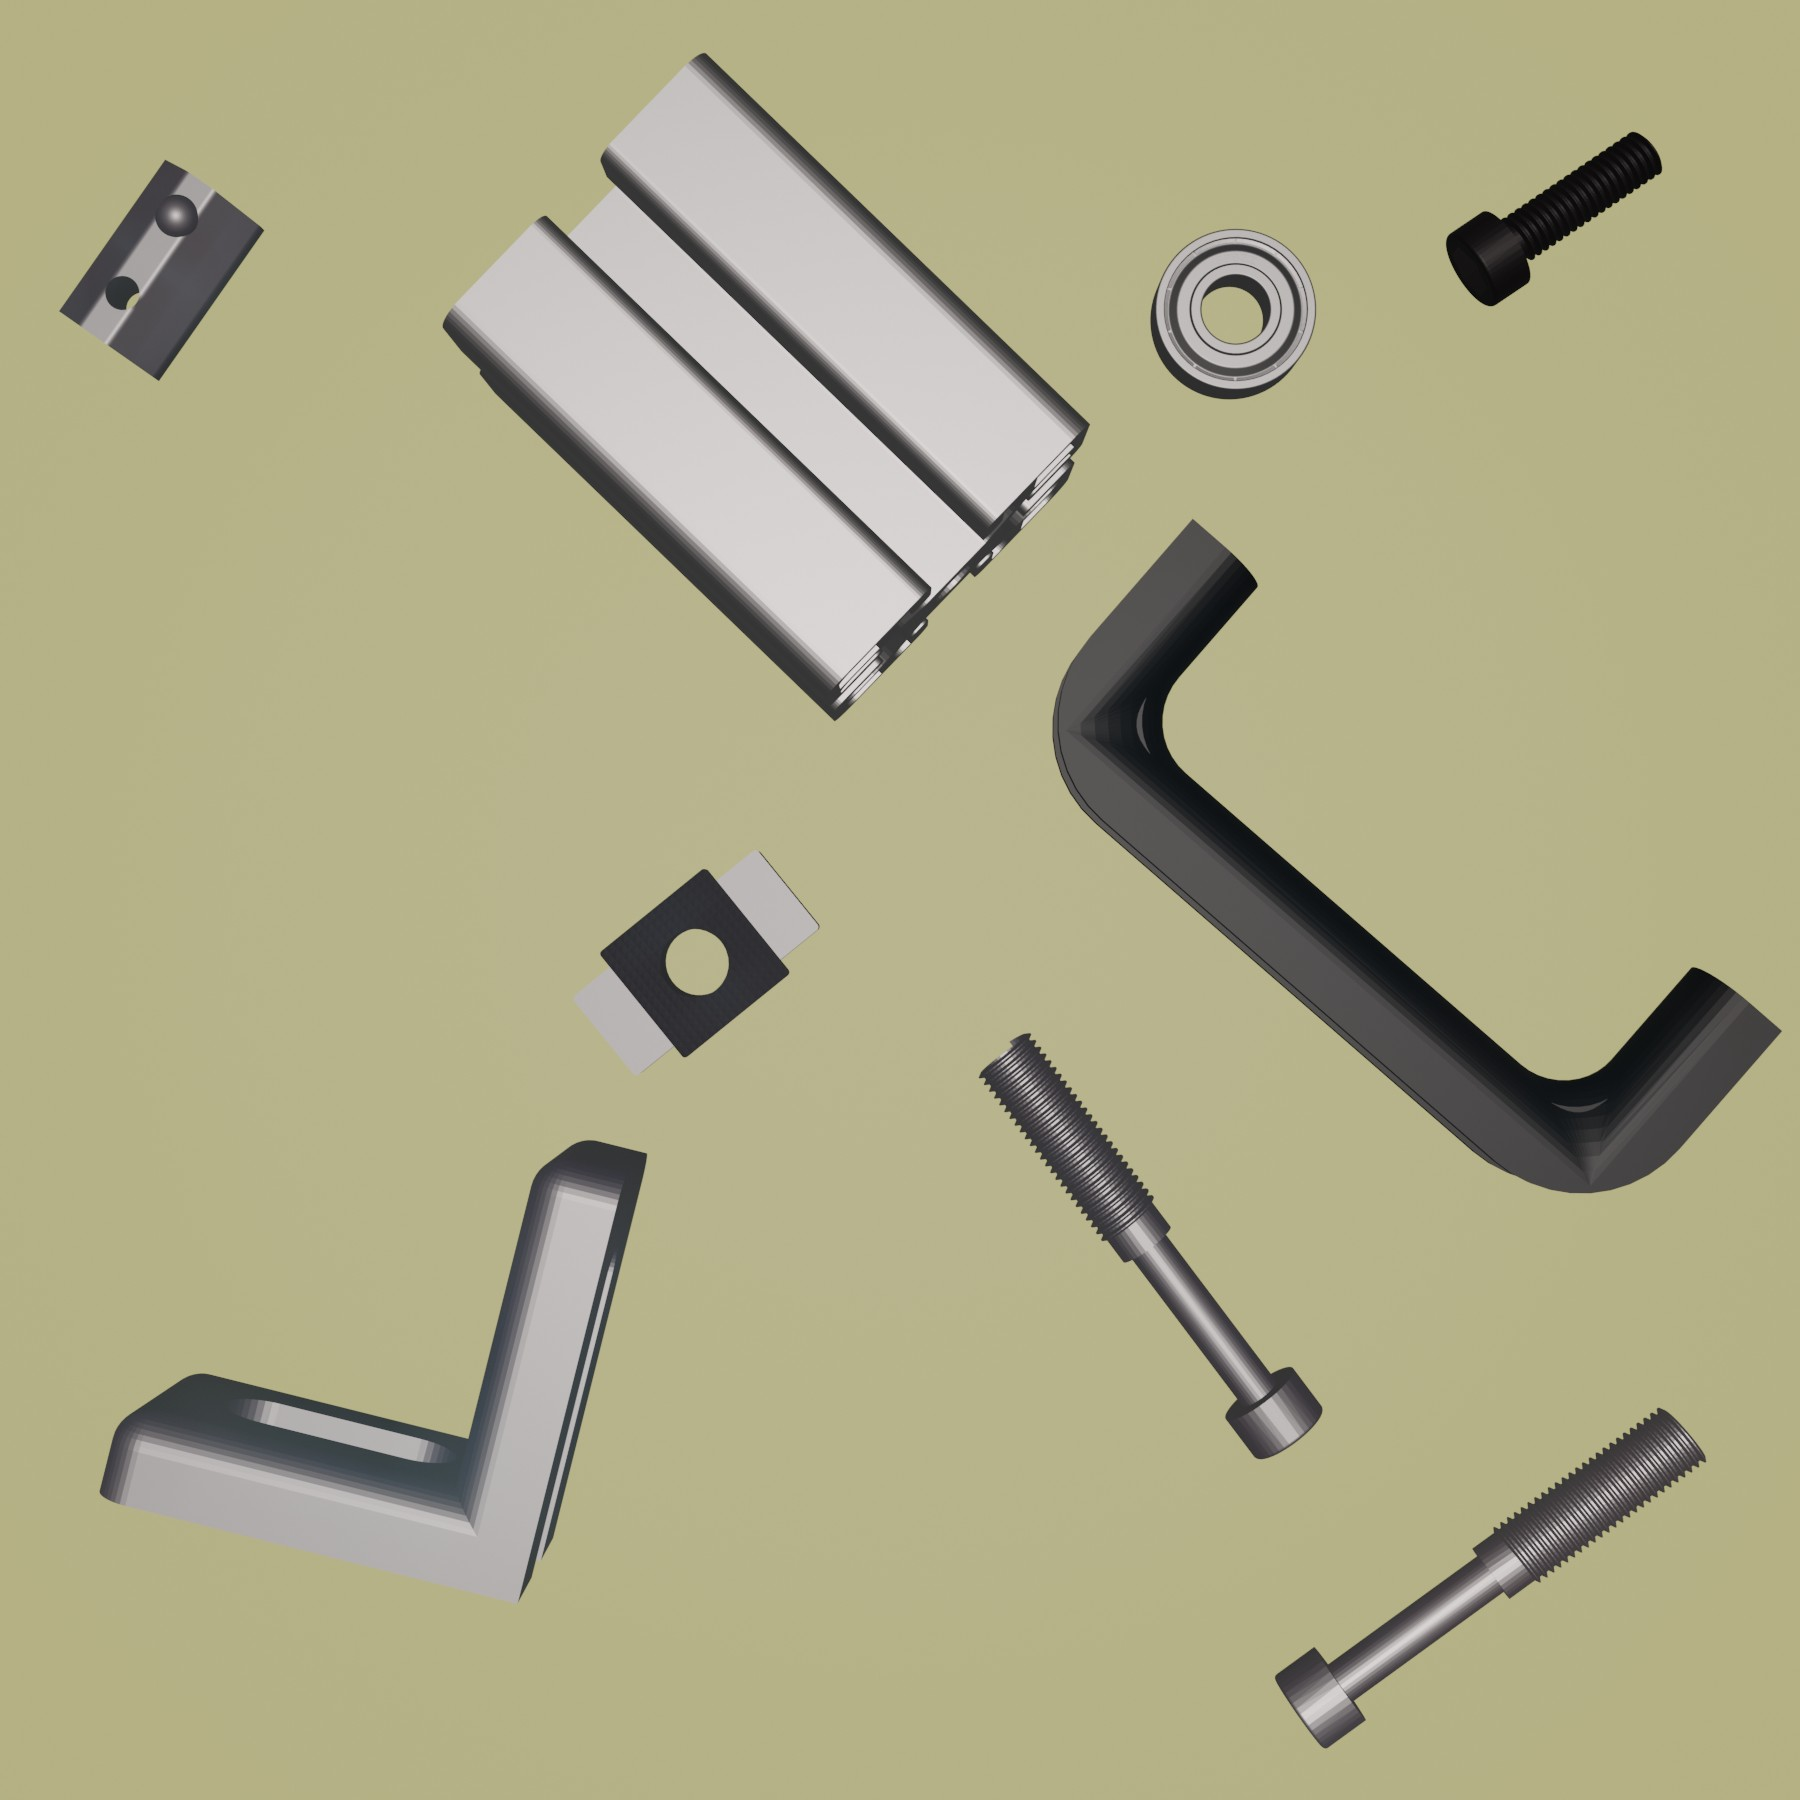Aluminium Extension: (440, 51, 1091, 724)
Ball Bearing: (1147, 227, 1317, 401)
Multiwinkel: (101, 1137, 648, 1601)
Pull Handle: (1048, 516, 1785, 1197)
Shoulder Socket Head Cap Screw: (1273, 1408, 1709, 1751), (977, 1030, 1324, 1460)
Socket Head Cap Screw: (1442, 129, 1665, 308)
T Nut Square: (567, 846, 819, 1078)
T Spring Nut: (54, 158, 265, 382)
